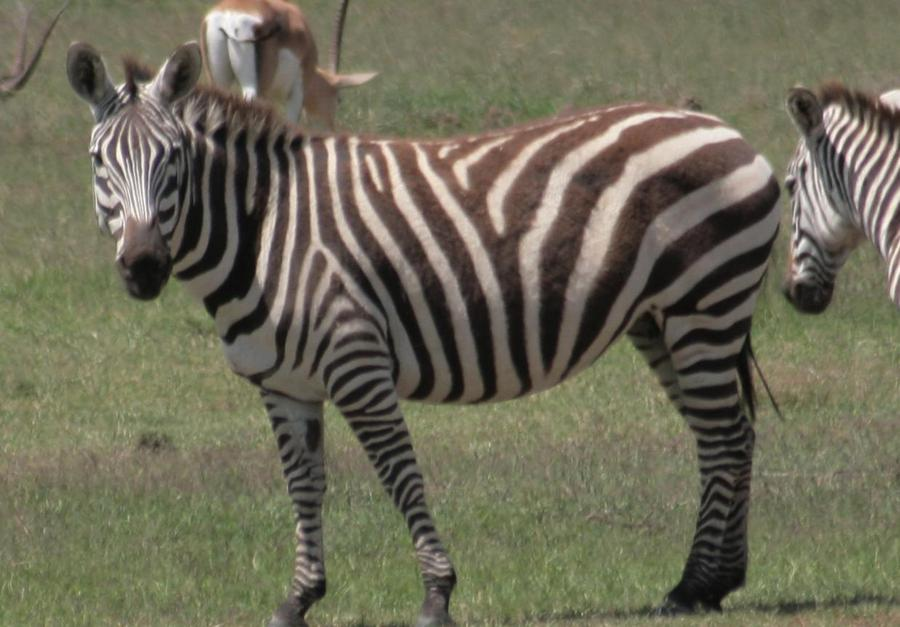zebra_plains: (211, 69, 818, 400)
